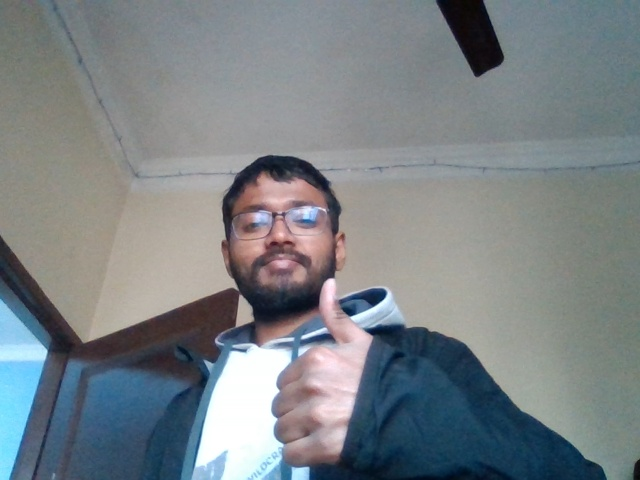good: (264, 283, 434, 457)
